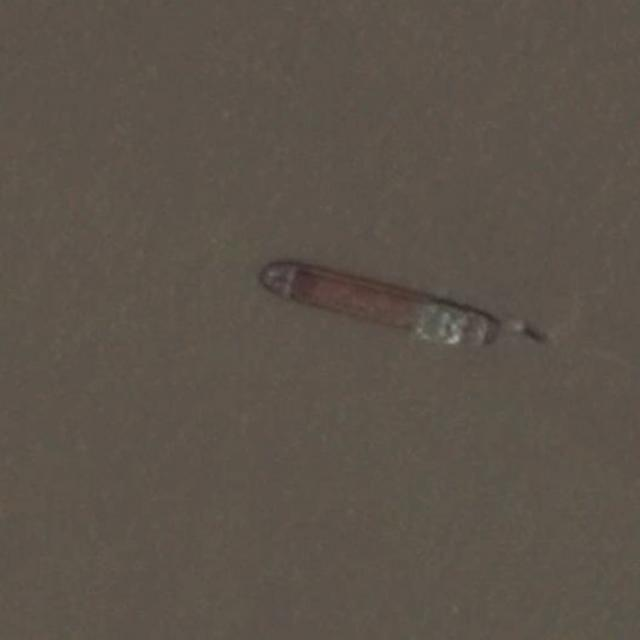ship: (252, 257, 502, 350)
